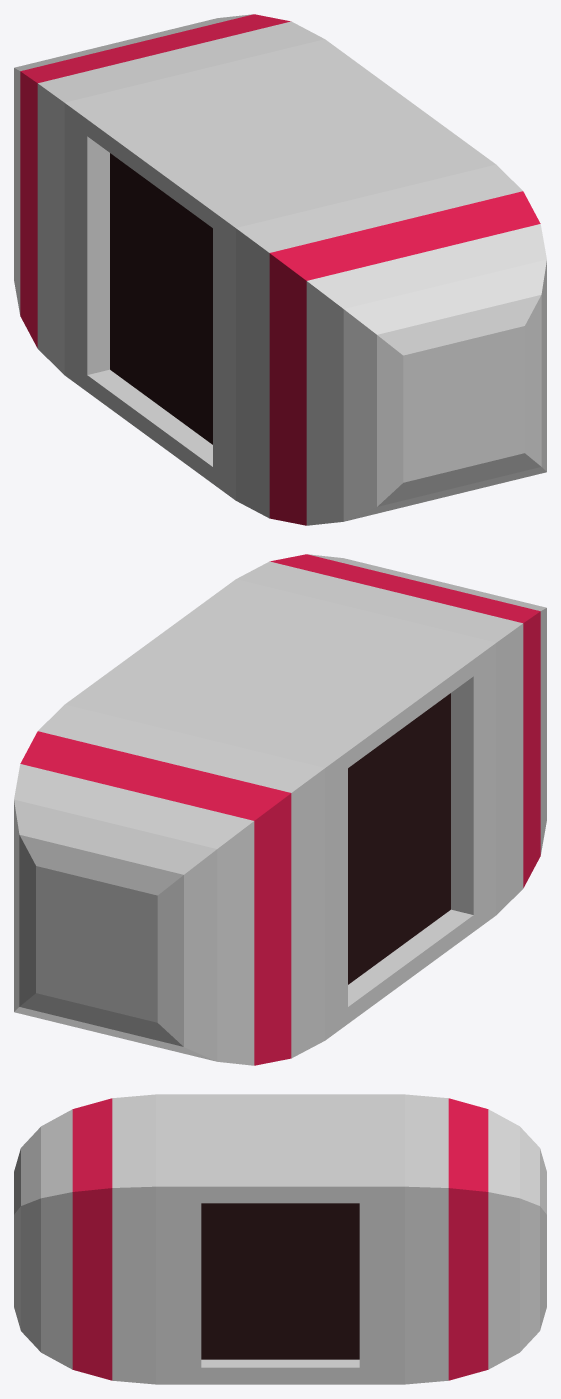
File: Cabin.fbx
3 views of the same model, one above another, from view 1: azimuth 30°, elevation 25°; view 2: azimuth 150°, elevation 25°; view 3: azimuth 270°, elevation 25° (orthographic). The views are drawn at different scales.
Visible parts, largest first — view 1: Cabin; view 2: Cabin; view 3: Cabin.
Part boxes in pixels (left/top/right/bottom): Cabin: left=14, top=14, right=546, bottom=525; Cabin: left=14, top=554, right=546, bottom=1065; Cabin: left=14, top=1094, right=546, bottom=1384.
Bounding box in the file's own units: 100 × 100 × 244.
